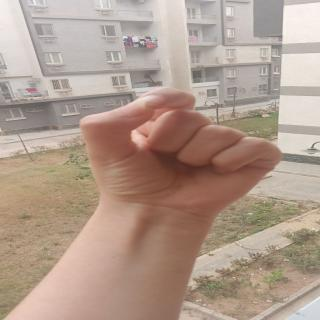FAA: (80, 81, 280, 207)
